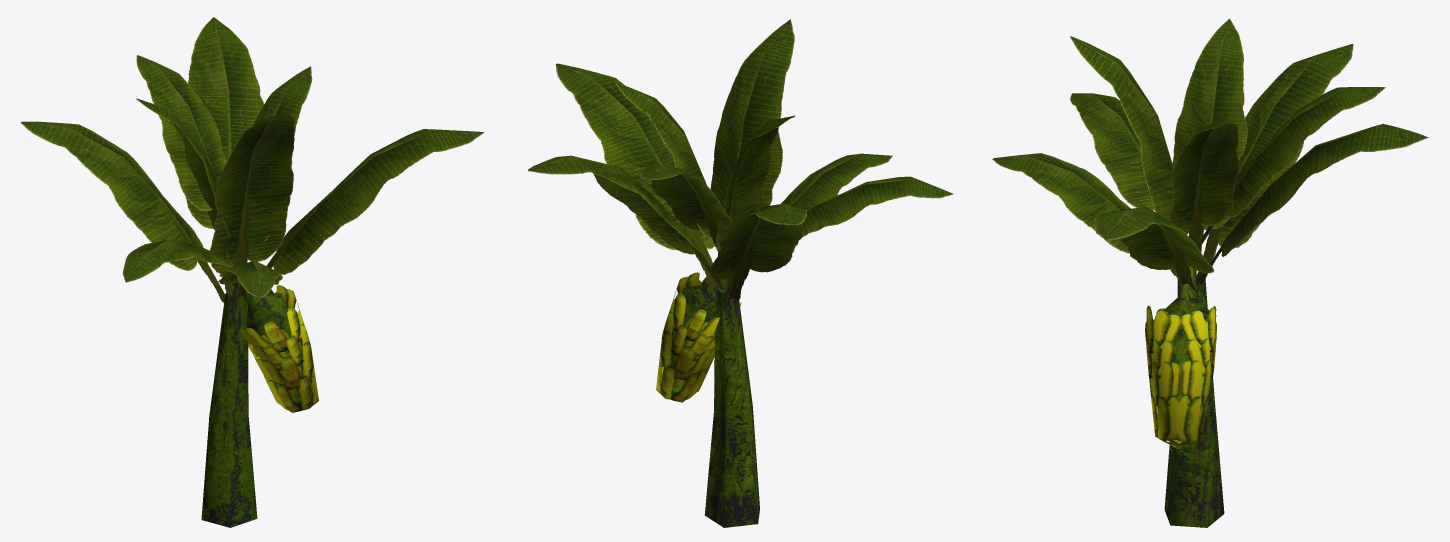
The model's file is banana2.dae.
3 renders of one model, left to right at view 1: azimuth 30°, elevation 25°; view 2: azimuth 150°, elevation 25°; view 3: azimuth 270°, elevation 25°, orthographic. The views are drawn at different scales.
Parts seen in each view (by area): view 1: Plane; view 2: Plane; view 3: Plane.
Part boxes in pixels (x1,y1,x2,y2): Plane: (20,17,483,527); Plane: (528,19,953,527); Plane: (992,18,1428,527).
Bounding box in the file's own units: 4.6 × 4.29 × 5.12.
Materials: 2 (2 with a texture image).
